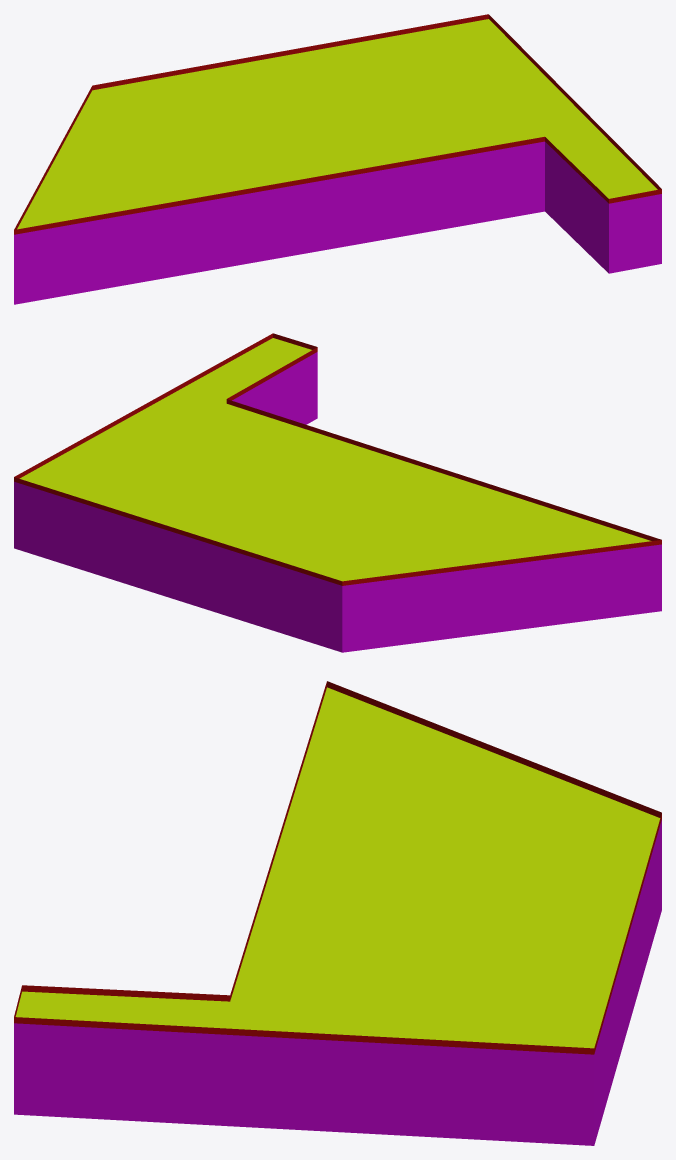
File: bgj_130.glb
The picture shows the model from 3 angles, top to bottom: view 1: azimuth 30°, elevation 25°; view 2: azimuth 150°, elevation 25°; view 3: azimuth 270°, elevation 25°; orthographic projection. The views are drawn at different scales.
Visible parts, largest first — view 1: bgj_130; view 2: bgj_130; view 3: bgj_130.
Boxes of the visible parts, x1,y1,x2,y2 form: bgj_130: (14, 14, 661, 304); bgj_130: (14, 333, 661, 652); bgj_130: (14, 681, 661, 1145).
Bounding box in the file's own units: 43.78 × 5.42 × 32.64.
